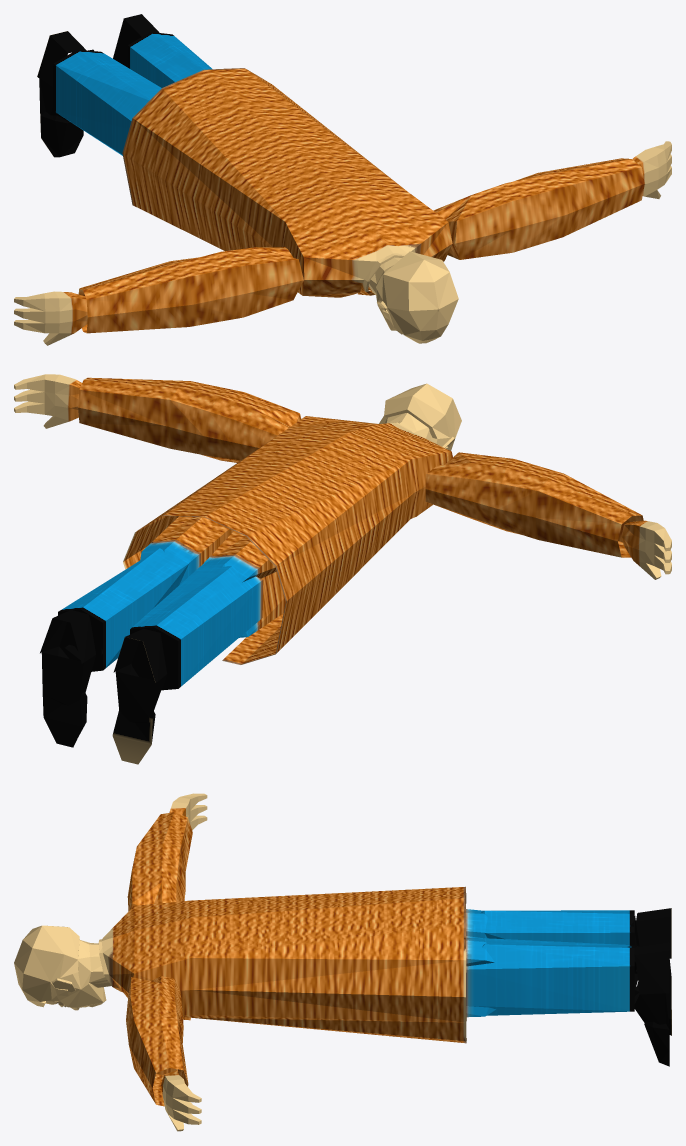
File: henry1p5kboned_wtf.obj
3 renders of one model, top to bottom at view 1: azimuth 30°, elevation 25°; view 2: azimuth 150°, elevation 25°; view 3: azimuth 270°, elevation 25°, orthographic. The views are drawn at different scales.
Visible parts, largest first — view 1: group1; view 2: group1; view 3: group1.
Boxes of the visible parts, bbox=[...] form: group1: bbox=[14, 14, 671, 345]; group1: bbox=[14, 374, 671, 764]; group1: bbox=[14, 793, 671, 1131].
Size of the model in its own units: 660 by 151 by 600.
